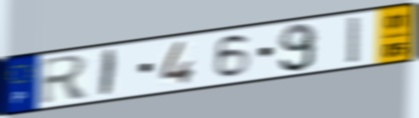4: (159, 39, 197, 87)
6: (212, 32, 252, 80)
9: (278, 21, 319, 74)
I: (97, 47, 120, 99), (346, 14, 362, 66)
R: (39, 53, 92, 107)
